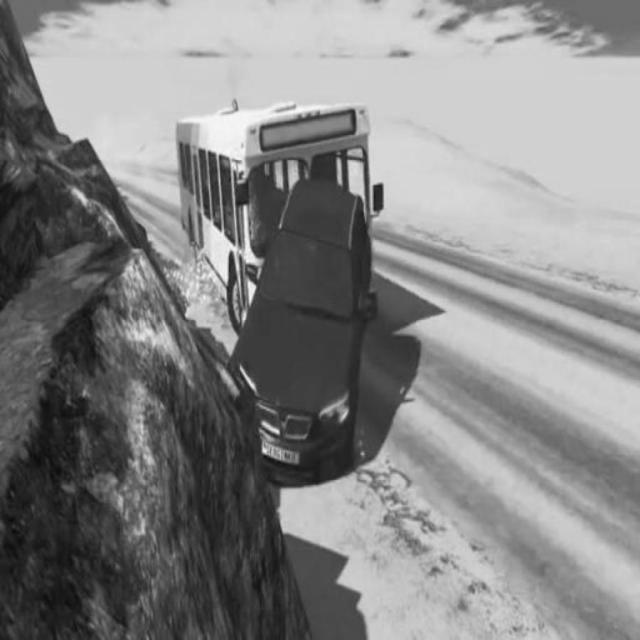accident: (174, 101, 381, 475)
